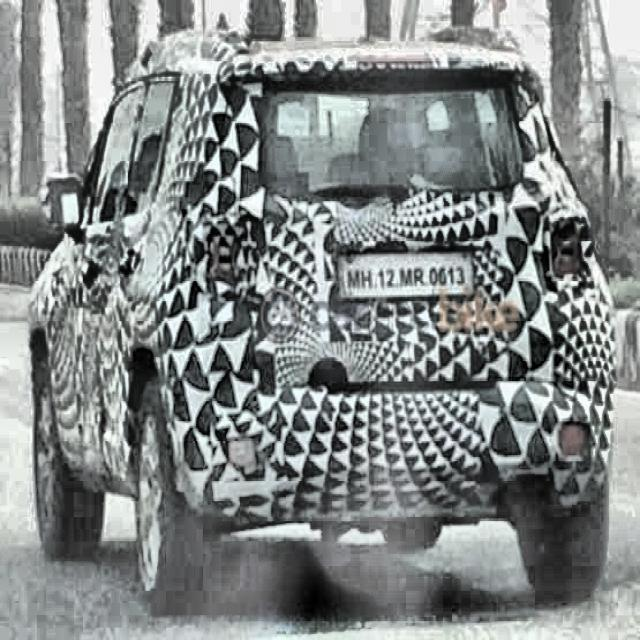license_plate: (338, 259, 472, 294)
